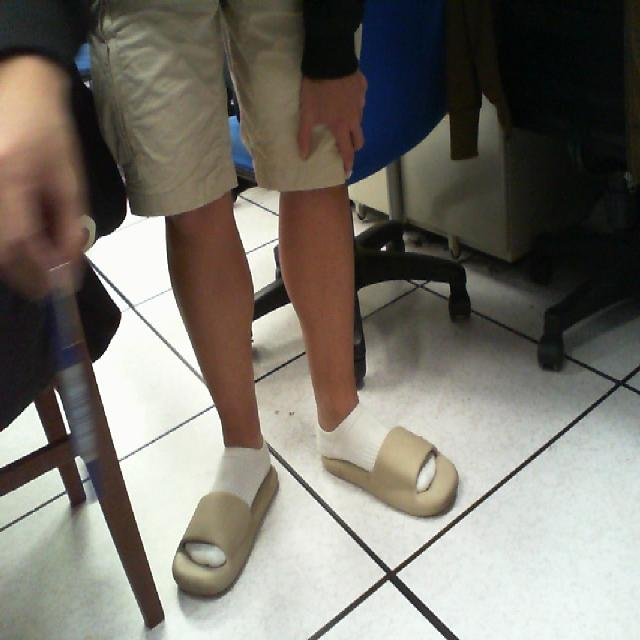Pen: (34, 218, 112, 510)
